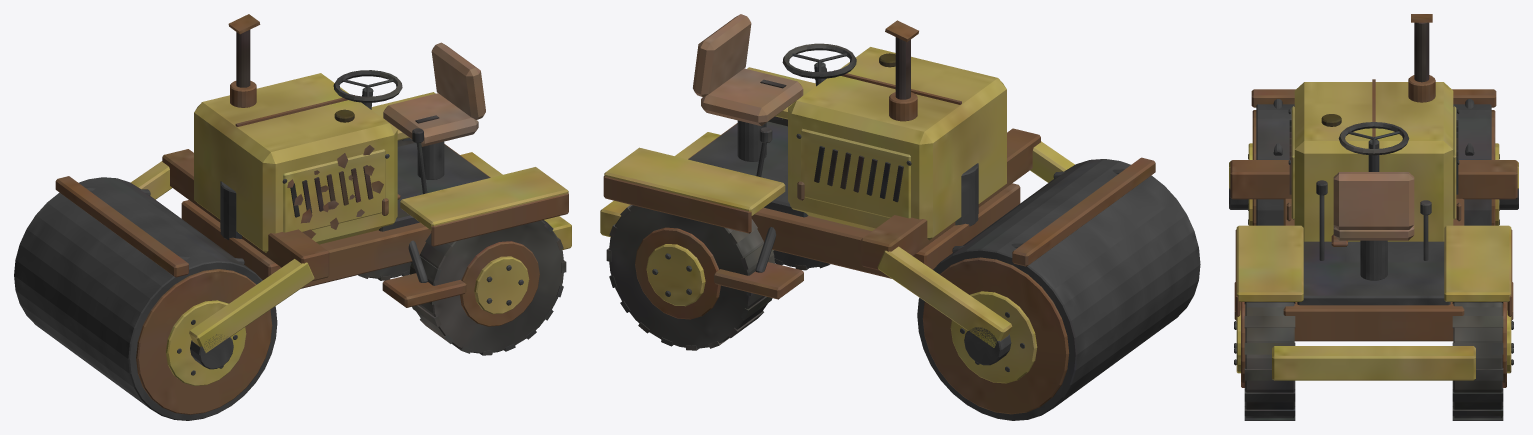
File: CV16_road_roller.glb
3 views of the same model, side by side, from view 1: azimuth 30°, elevation 25°; view 2: azimuth 150°, elevation 25°; view 3: azimuth 270°, elevation 25° (orthographic). The views are drawn at different scales.
Visible parts, largest first — view 1: Front steel compaction drum; view 2: Front steel compaction drum; view 3: Front steel compaction drum.
Boxes of the visible parts, x1=… form: Front steel compaction drum: x1=14, y1=14, x2=571, y2=420; Front steel compaction drum: x1=600, y1=14, x2=1200, y2=420; Front steel compaction drum: x1=1229, y1=14, x2=1518, y2=420.
Bounding box in the file's own units: 4 × 2.63 × 2.19.
Materials: 7 (7 with a texture image).
